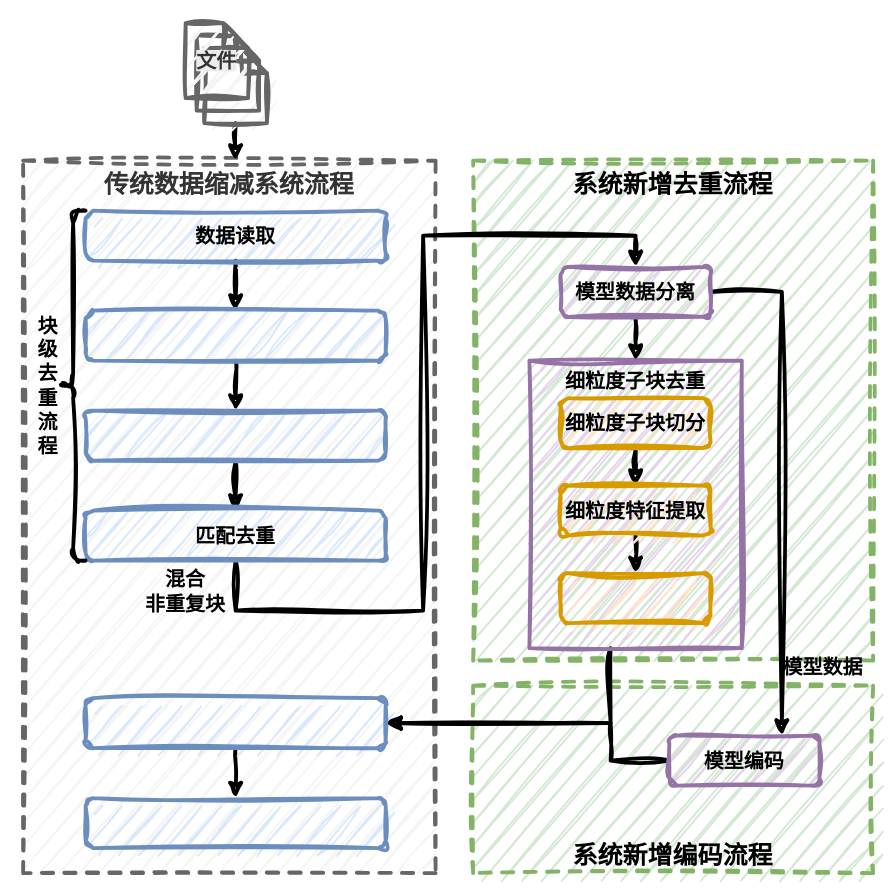
Some shapes in this 896 by 896 pixel diagram are drawn without their labels. Here are the shapes that lost their labels. From the top down, the centre of each, then its label:
At pixel 235 335: "数据切块".
At pixel 235 435: "指纹哈希".
At pixel 635 597: "块内冗余去重".
At pixel 235 722: "压缩".
At pixel 235 822: "持久化存储".
